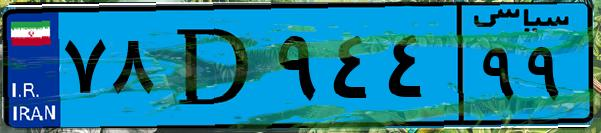4: (385, 28, 445, 110), (330, 28, 385, 110)
7: (57, 26, 110, 100)
8: (110, 28, 158, 98)
9: (270, 28, 330, 110), (475, 38, 525, 113), (525, 38, 570, 115)
D: (158, 12, 270, 120)
